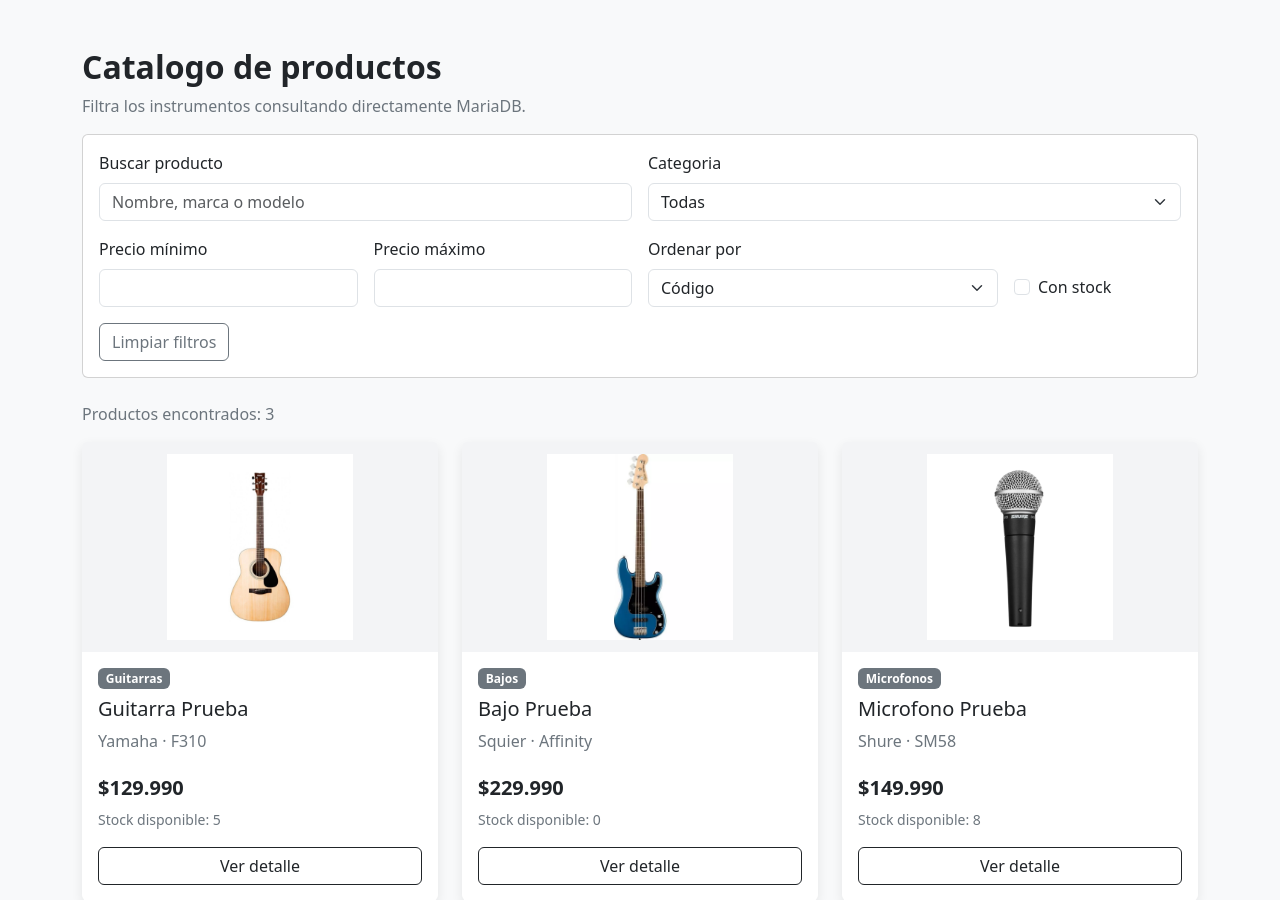
Test case: Catalogo con filtros REST en MariaDB › busca por modelo en el backend
This screenshot has width=1280, height=900.
Expected: the heading "Guitarra Prueba" is shown, left=98, top=695, right=249, bottom=722
Type "SM58" into the field labelled "Buscar producto" at (366, 202), box left=99, top=183, right=632, bottom=221
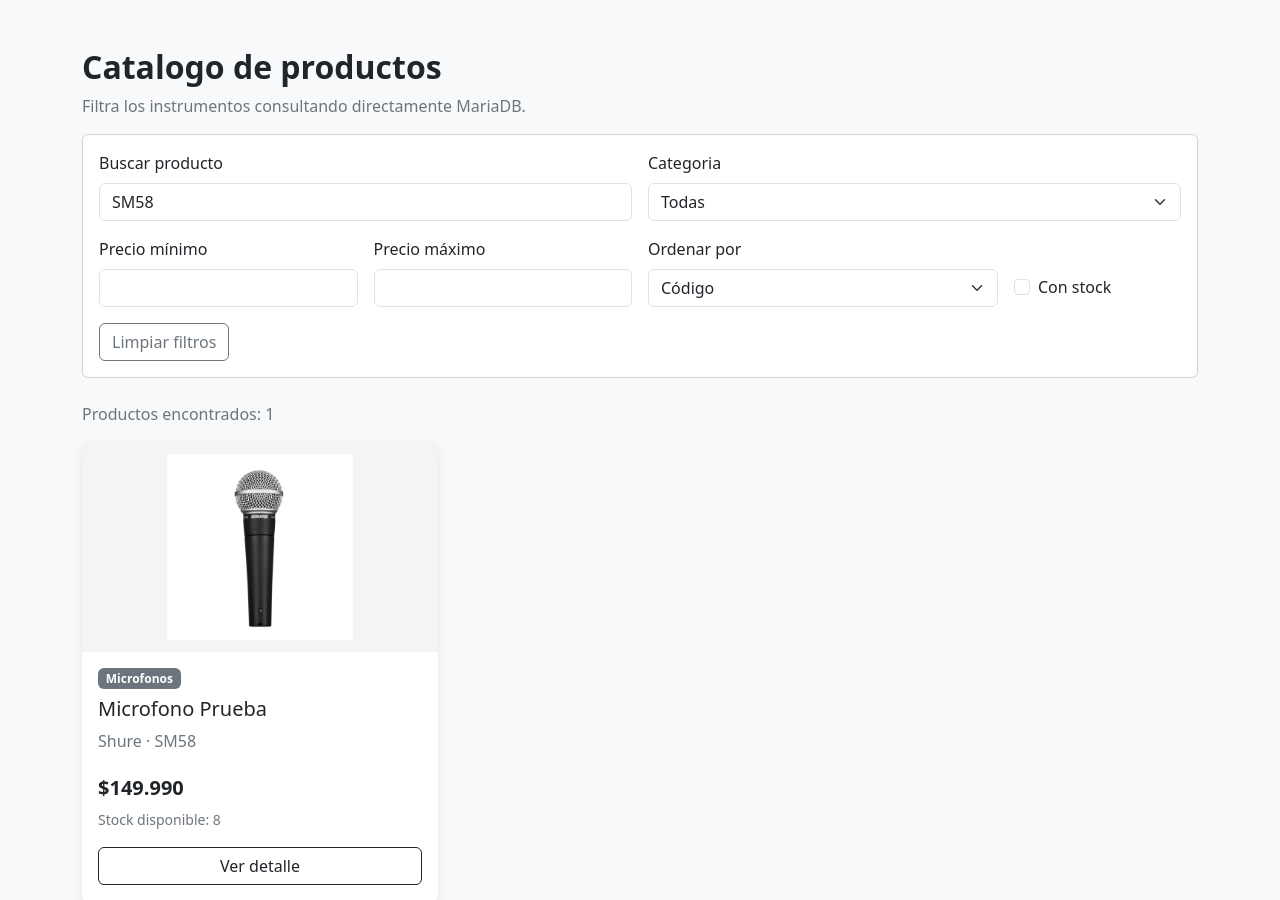
Expected: the heading "Microfono Prueba" is shown, left=98, top=695, right=267, bottom=722
Expected: the heading "Guitarra Prueba" is gone
